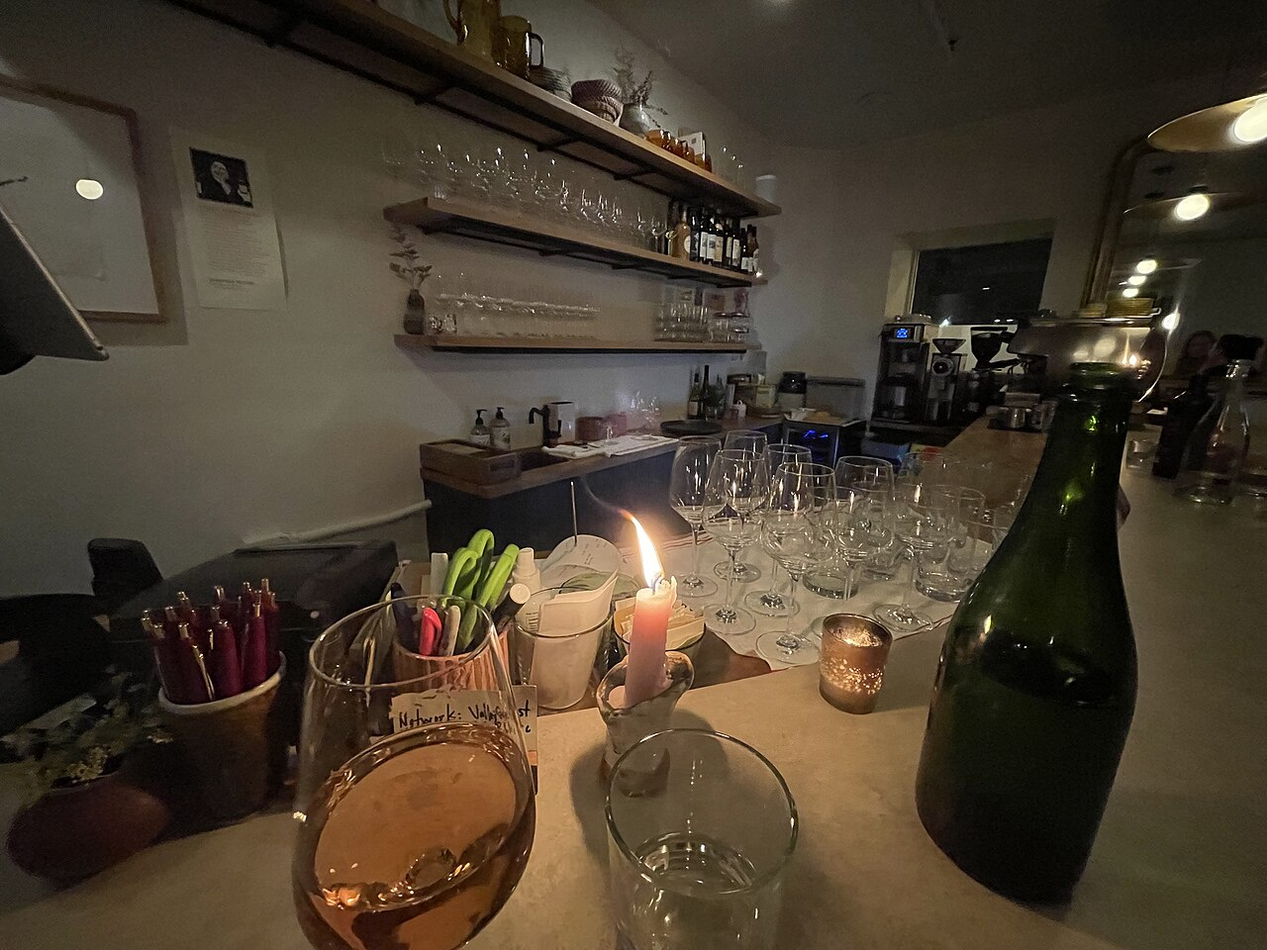unknown_bottle: (912, 359, 1145, 906), (1176, 362, 1251, 506), (489, 407, 512, 451), (703, 211, 721, 264), (700, 205, 716, 263), (742, 224, 759, 273), (687, 366, 702, 419), (699, 366, 714, 419), (728, 219, 743, 271), (712, 216, 726, 265)
